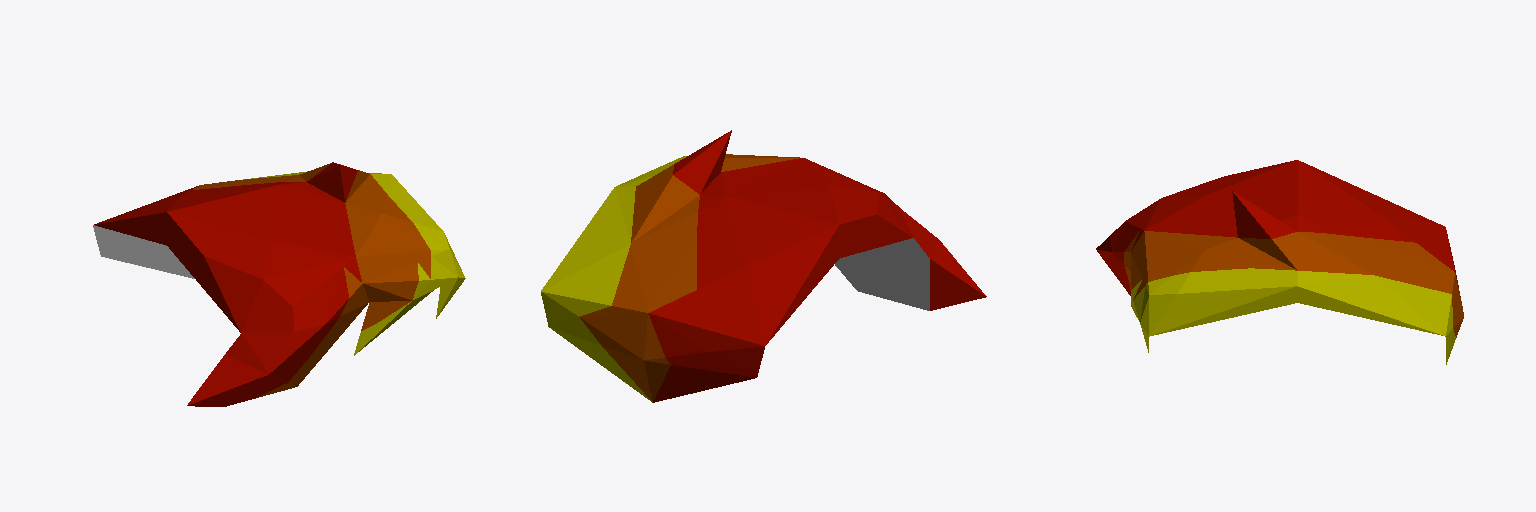
The model's file is hair2.obj.
The picture shows the model from 3 angles: view 1: azimuth 30°, elevation 25°; view 2: azimuth 150°, elevation 25°; view 3: azimuth 270°, elevation 25°; orthographic projection.
Visible parts, largest first — view 1: Cube.002; view 2: Cube.002; view 3: Cube.002.
Part boxes in pixels (x1,y1,x2,y2): Cube.002: (93, 162, 465, 406); Cube.002: (541, 130, 986, 402); Cube.002: (1096, 160, 1463, 364).
Size of the model in its own units: 0.2286 by 0.1423 by 0.2527.